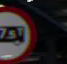Heavy Vehicles: (1, 3, 41, 62)
